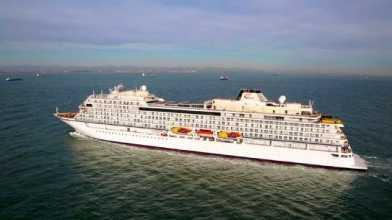youlun: (50, 82, 375, 174)
